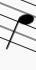HC: (4, 1, 35, 57)
